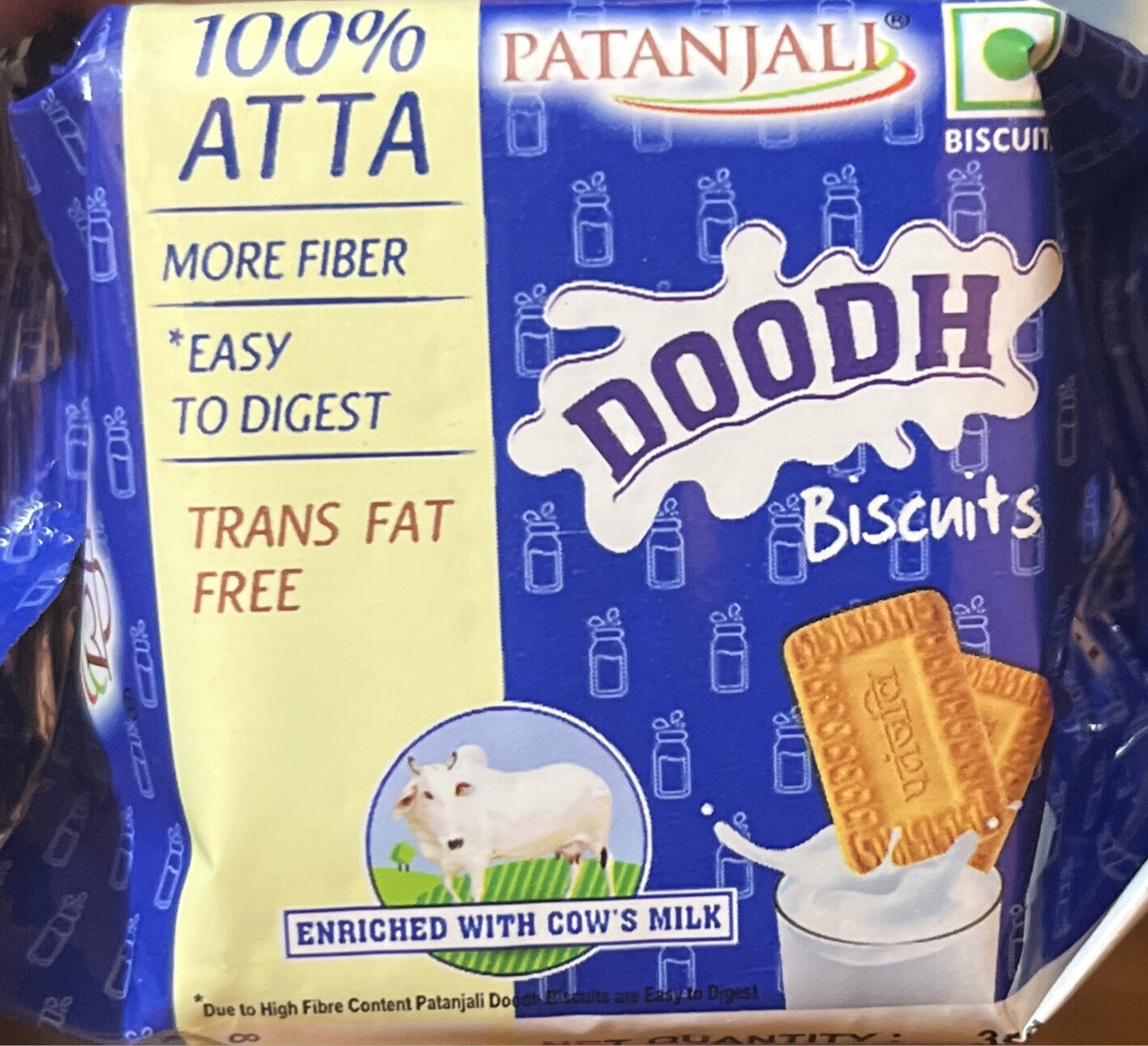Doodh Biscuits: (103, 94, 1045, 952)
